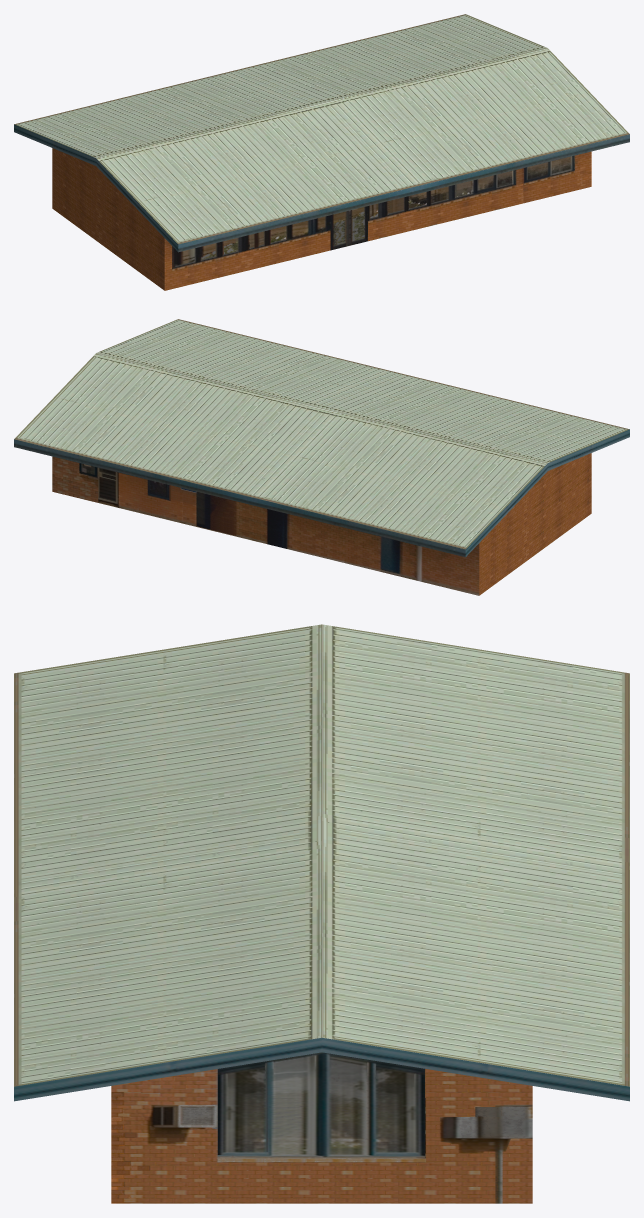
File: terminal-small-03-18x11-cbj_LOD01.gltf
3 renders of one model, top to bottom at view 1: azimuth 30°, elevation 25°; view 2: azimuth 150°, elevation 25°; view 3: azimuth 270°, elevation 25°, orthographic. The views are drawn at different scales.
Parts seen in each view (by area): view 1: Sketchup01; view 2: Sketchup01; view 3: Sketchup01.
Boxes of the visible parts, x1=… form: Sketchup01: x1=14, y1=14, x2=629, y2=290; Sketchup01: x1=14, y1=319, x2=629, y2=595; Sketchup01: x1=14, y1=624, x2=629, y2=1203.
Size of the model in its own units: 18.1 by 3.62 by 11.4.
